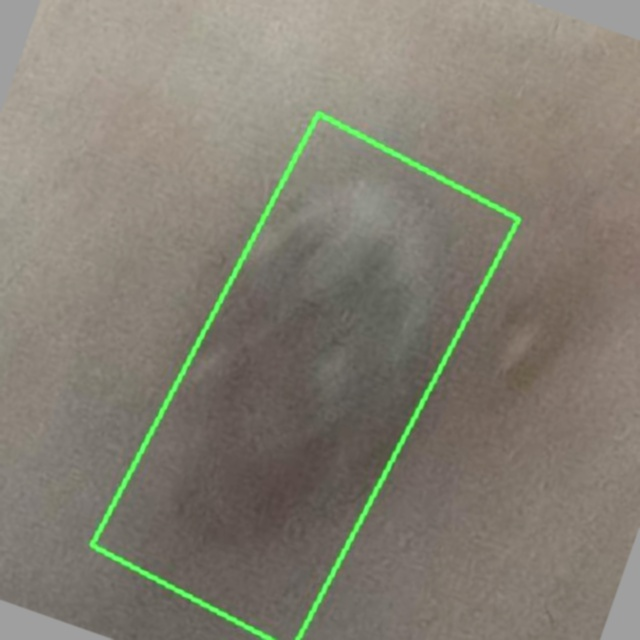Eczema: (91, 114, 517, 639)
